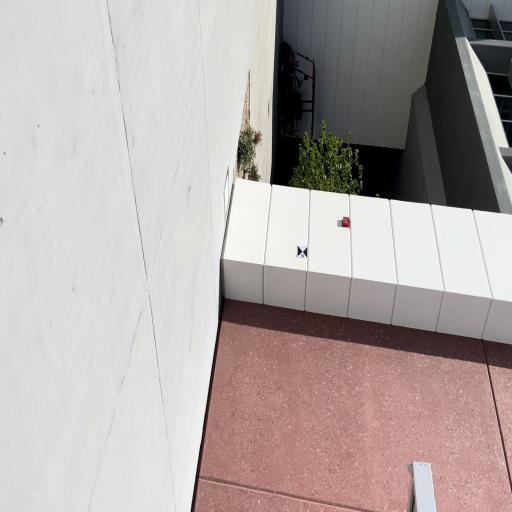target9: (296, 245, 308, 258)
